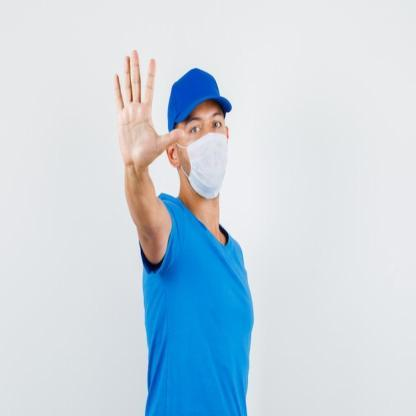stop: (112, 46, 186, 170)
